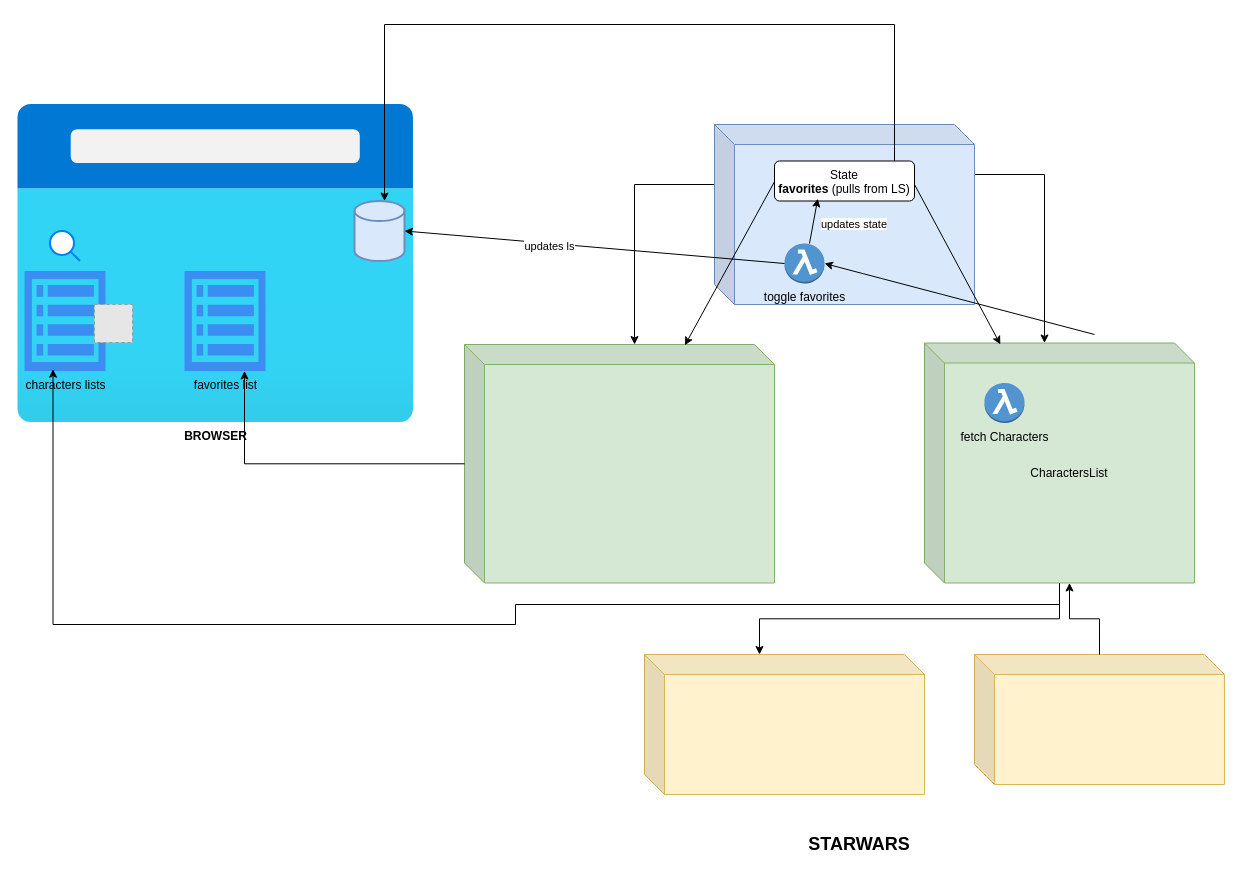
Some shapes in this 1242 by 882 pixel diagram are drawn without their labels. Grey dashed boxes stand in for pictures. Each missing label, with the centre of its shape:
"CharacterModal" belongs at (x=784, y=724).
"FavoritesList" belongs at (x=619, y=463).
"local storage (favorites)" belongs at (x=379, y=231).
"SearchBar" belongs at (x=1099, y=719).
